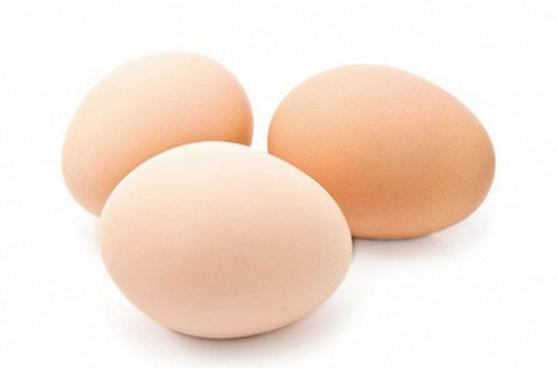egg: (266, 64, 503, 237)
